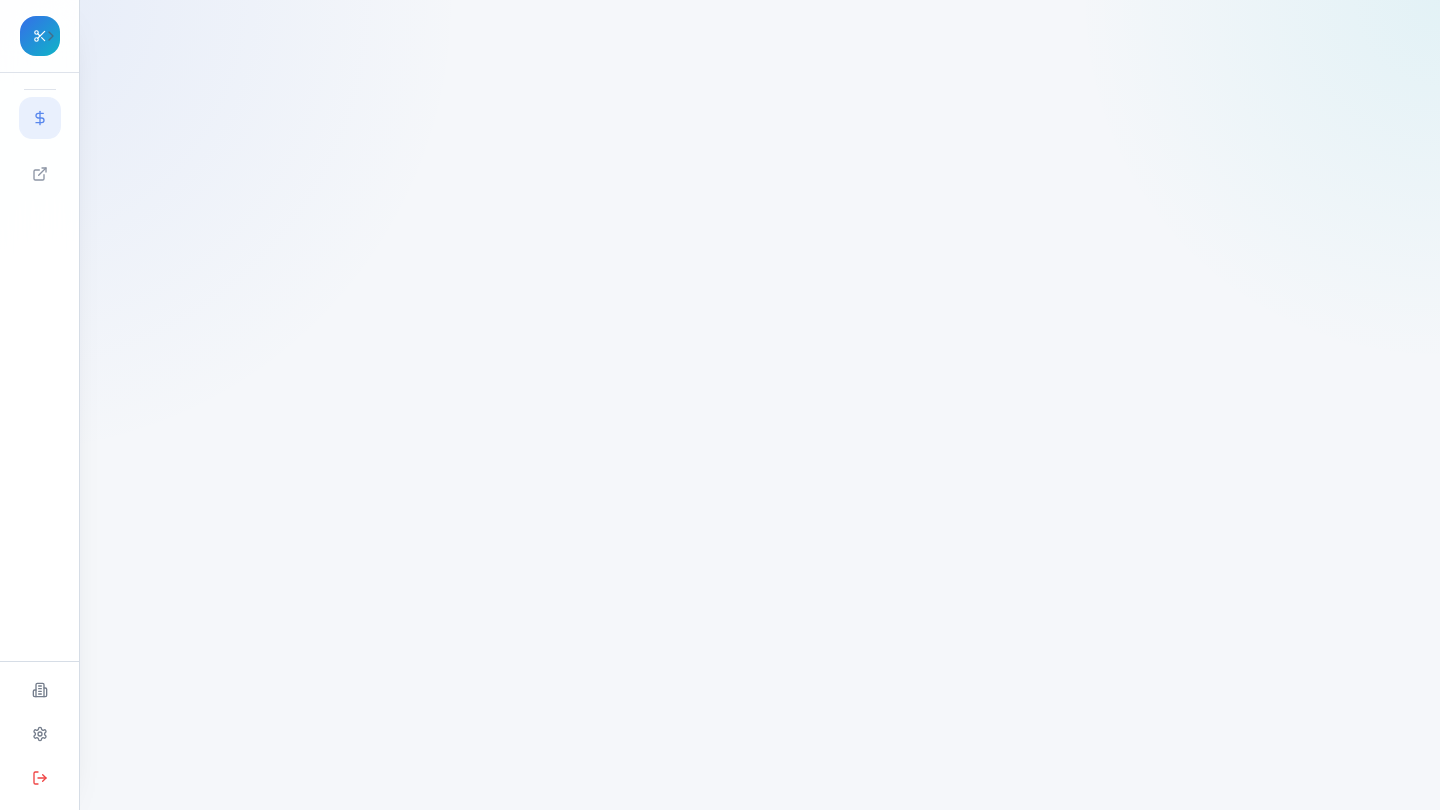
Test: Sidebar › should expose submenu labels through the compact dropdown instead of inline icon-only children
Step 1. Click the button named "Resumo Financeiro" → [40, 118], box x1=20 y1=98 x2=60 y2=138
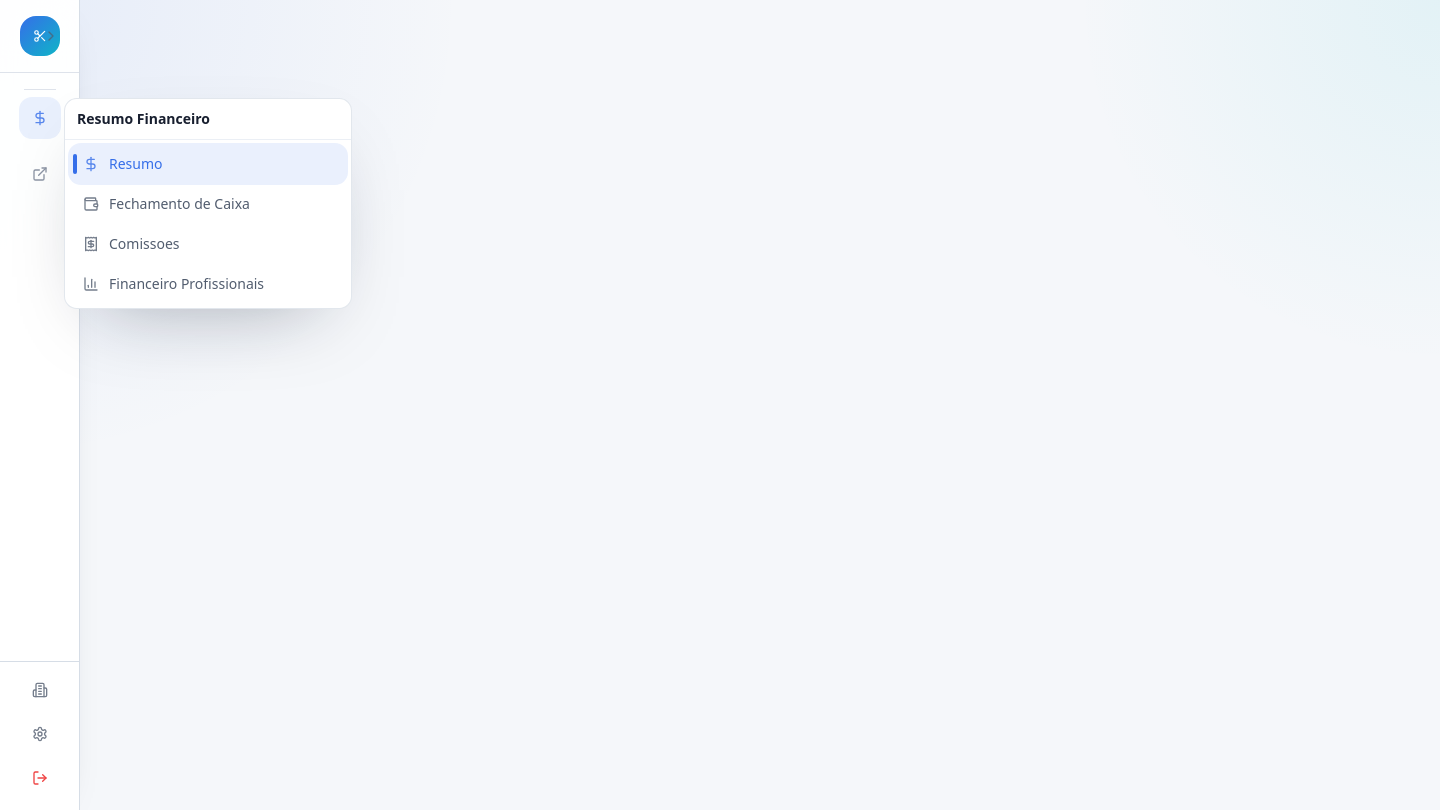
Expected: the text "Fechamento de Caixa" is shown, x1=109 y1=194 x2=250 y2=214
Expected: the text "Financeiro Profissionais" is shown, x1=109 y1=274 x2=264 y2=294
